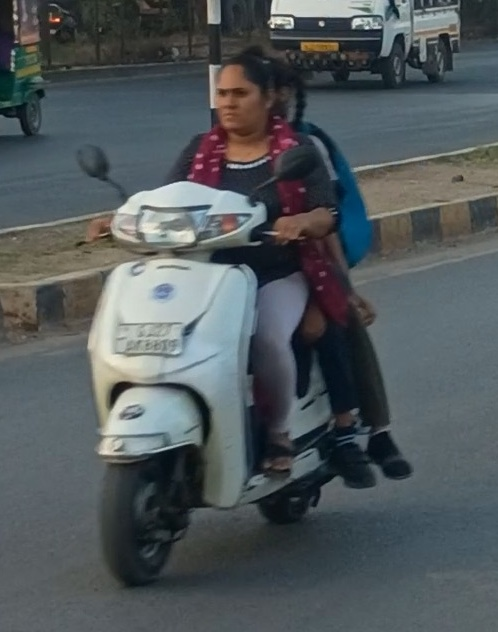BikeWithRider: (63, 39, 419, 592)
NoHelmet: (205, 48, 282, 138), (253, 54, 316, 132)
